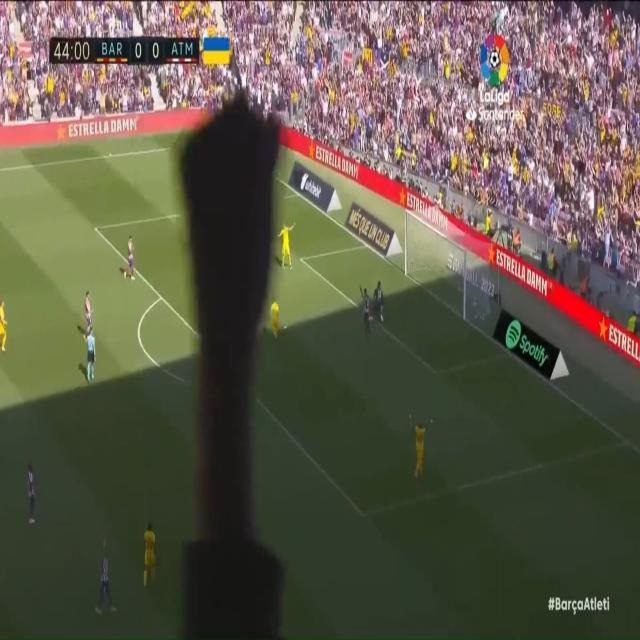ball: (473, 298, 479, 311)
goalkeeper: (372, 282, 389, 327)
player: (406, 407, 439, 484), (94, 534, 120, 619), (141, 520, 163, 590), (118, 236, 147, 285), (0, 292, 18, 366), (77, 289, 97, 342), (276, 221, 297, 271), (25, 453, 39, 528), (264, 297, 288, 338), (358, 283, 375, 332)
referee: (80, 325, 107, 387)
